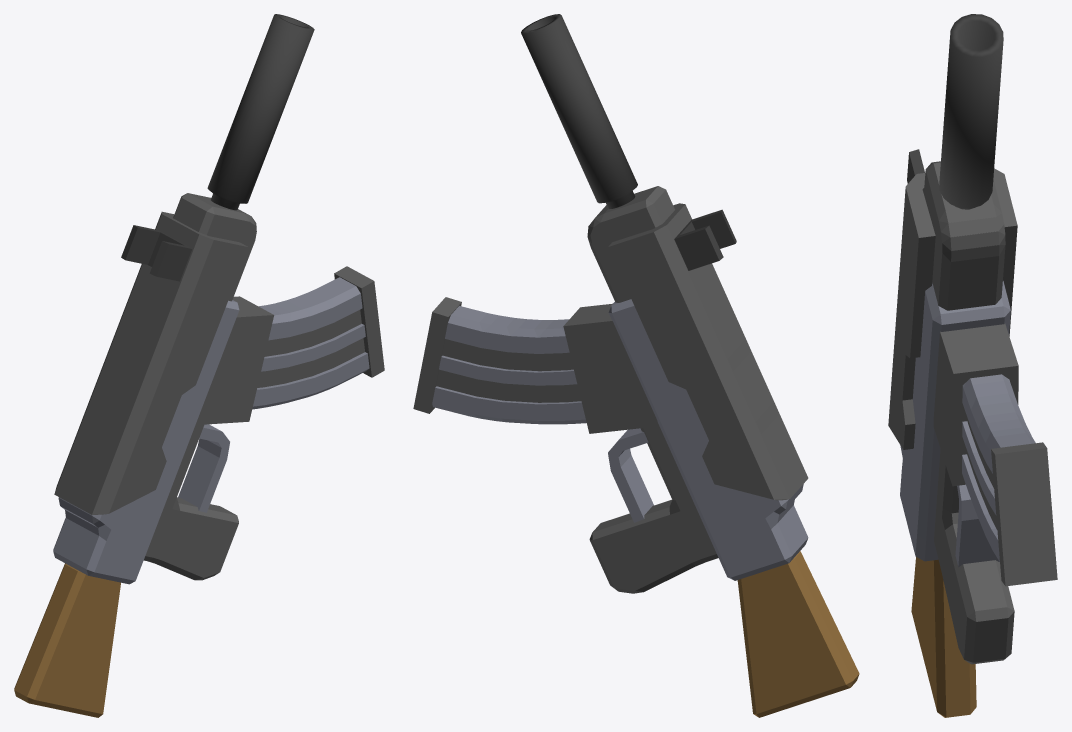
File: rifle.glb
3 views of the same model, side by side, from view 1: azimuth 30°, elevation 25°; view 2: azimuth 150°, elevation 25°; view 3: azimuth 270°, elevation 25° (orthographic). The views are drawn at different scales.
Parts seen in each view (by area): view 1: AK; view 2: AK; view 3: AK.
Part boxes in pixels (x1,y1,x2,y2): AK: (14,14,384,717); AK: (413,14,859,717); AK: (888,14,1057,717).
Bounding box in the file's own units: 0.00882 × 0.0137 × 0.00256.
